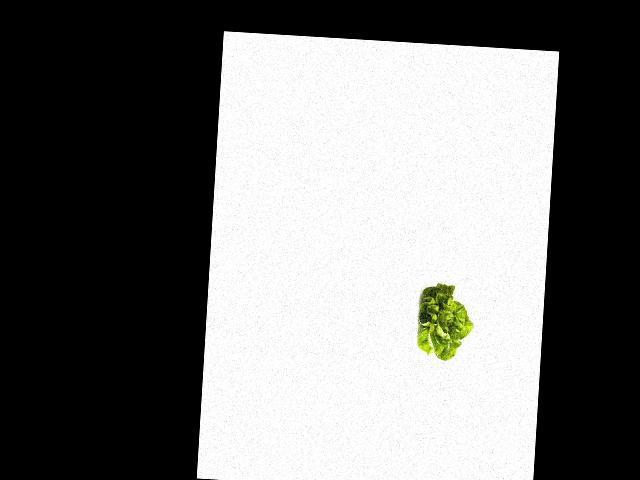lettuce: (415, 281, 475, 364)
